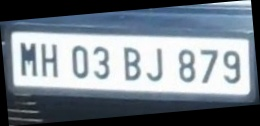character: (19, 40, 38, 77), (199, 48, 218, 84), (122, 45, 141, 80), (40, 42, 58, 78), (222, 50, 241, 84), (146, 47, 163, 82), (178, 49, 196, 82), (71, 45, 88, 79), (92, 45, 109, 79)
